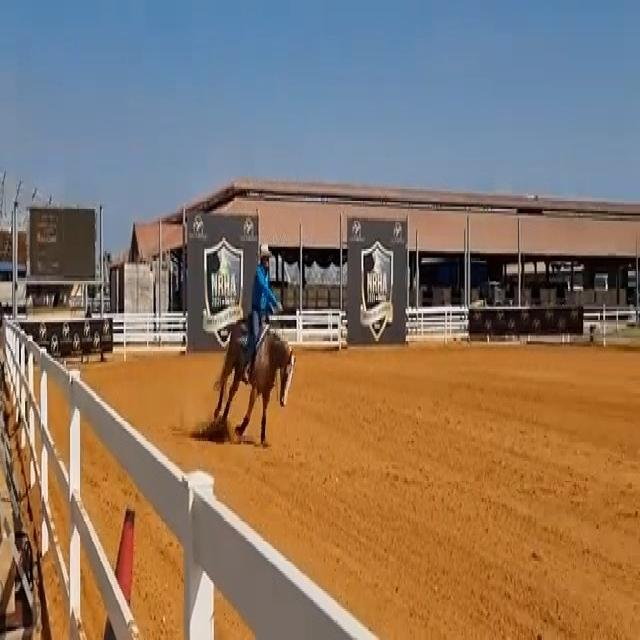horse: (211, 311, 297, 447)
